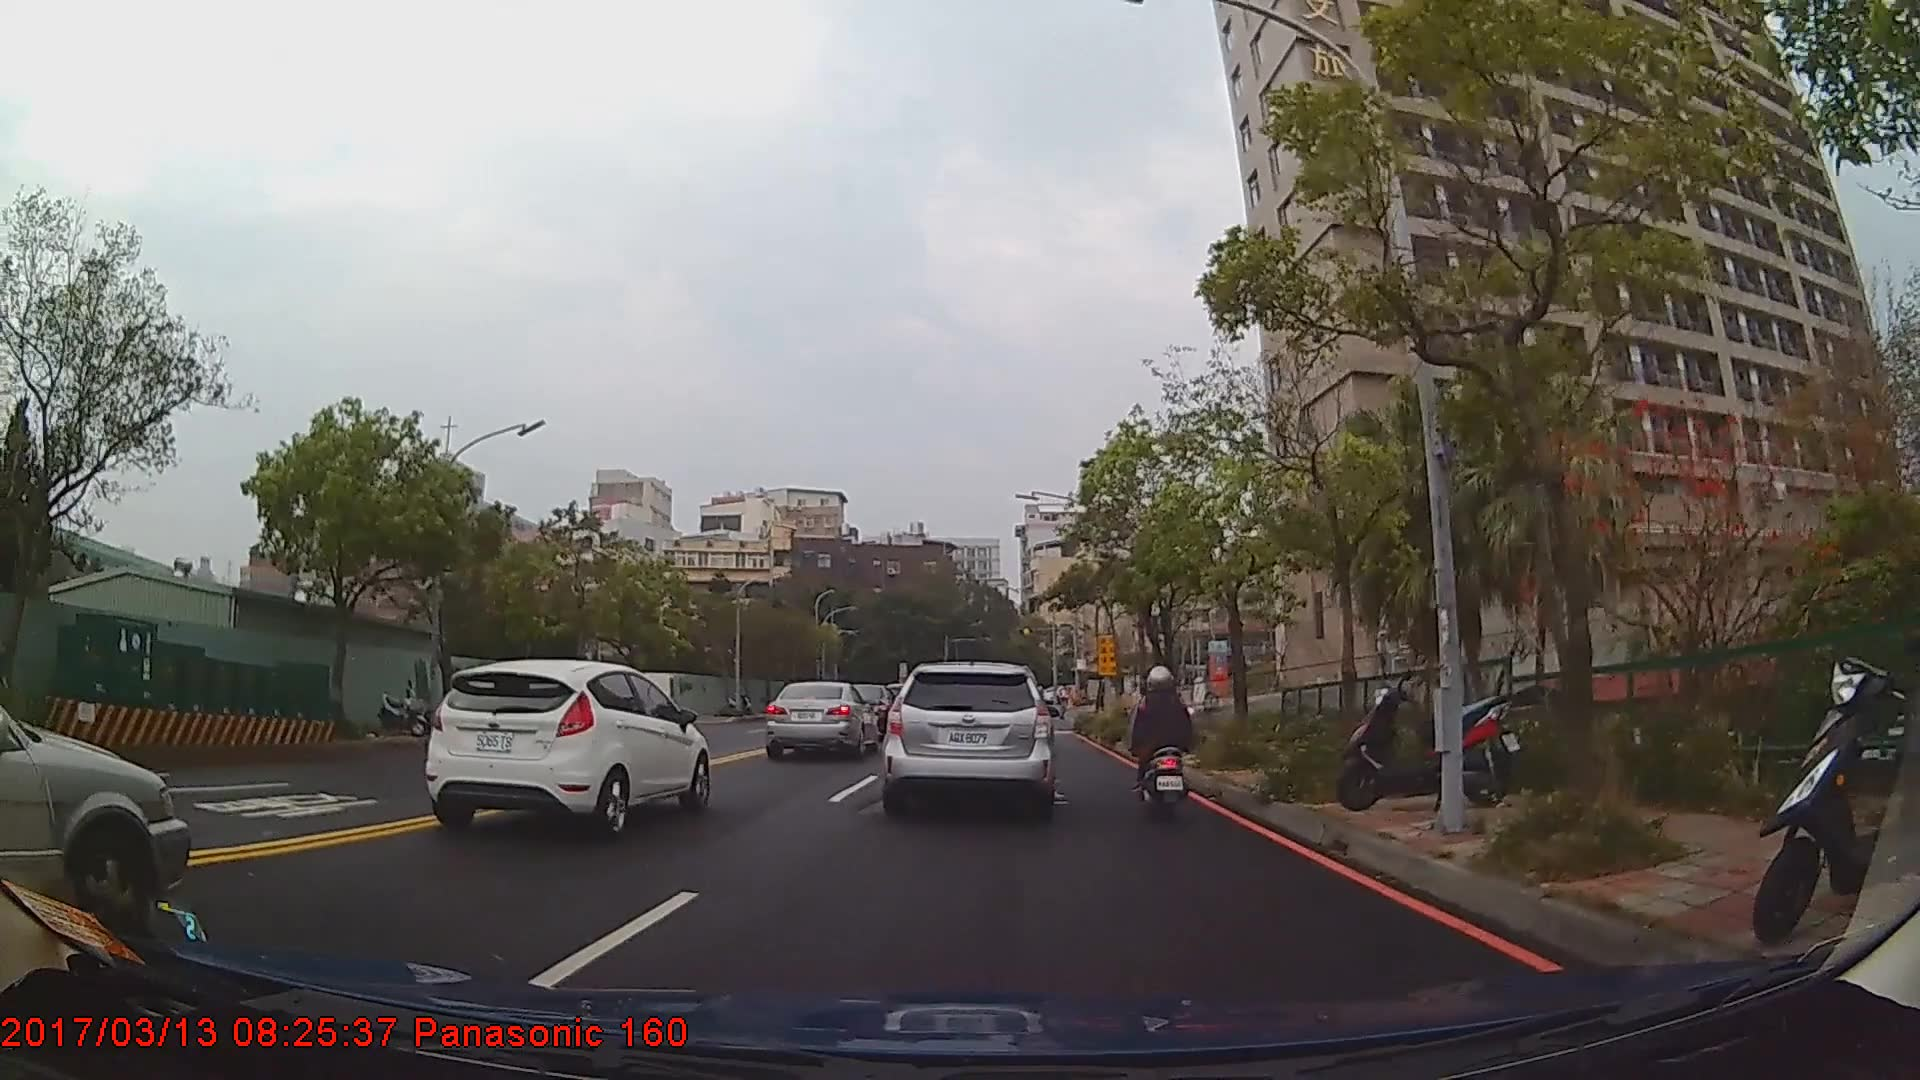rider: (1131, 667, 1194, 824)
vehicle: (424, 658, 710, 839), (0, 697, 187, 942), (883, 661, 1052, 818), (762, 680, 881, 759)
